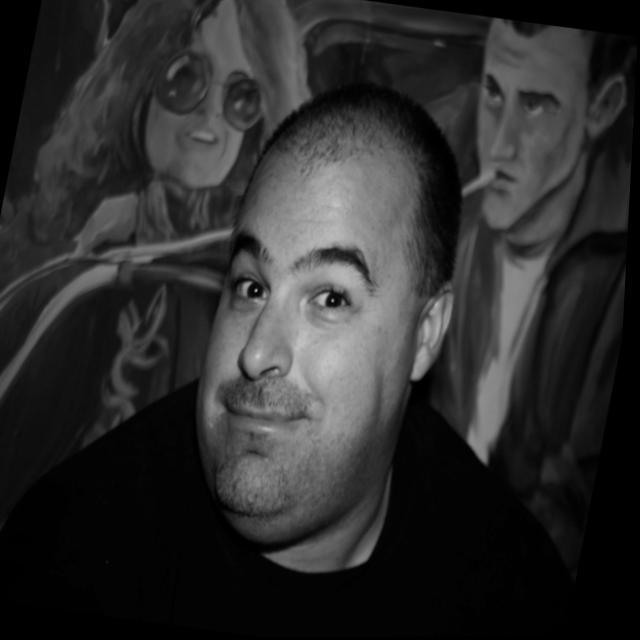puffy_eyes: (308, 305, 354, 334), (232, 295, 271, 320)
